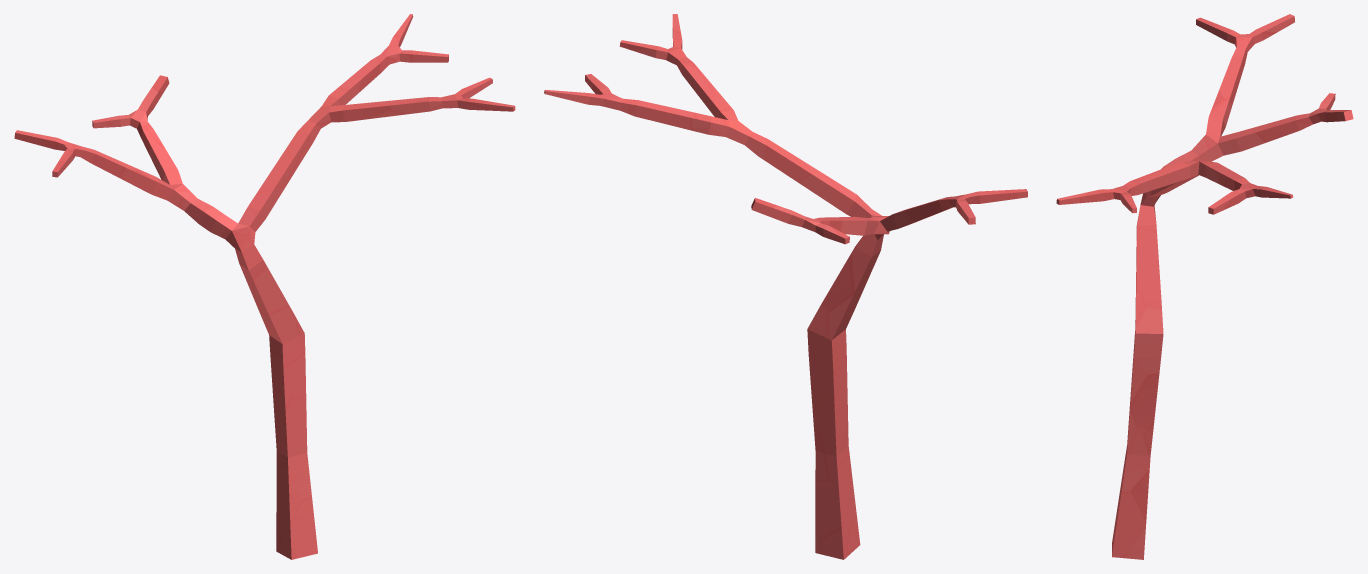
File: SavanaTree.fbx
The picture shows the model from 3 angles, left to right: view 1: azimuth 30°, elevation 25°; view 2: azimuth 150°, elevation 25°; view 3: azimuth 270°, elevation 25°; orthographic projection. The views are drawn at different scales.
Parts seen in each view (by area): view 1: Plane; view 2: Plane; view 3: Plane.
Part boxes in pixels (x1,y1,x2,y2): Plane: (14, 14, 515, 559); Plane: (544, 14, 1027, 559); Plane: (1056, 14, 1353, 559).
Size of the model in its own units: 14.56 by 8.75 by 14.84.
